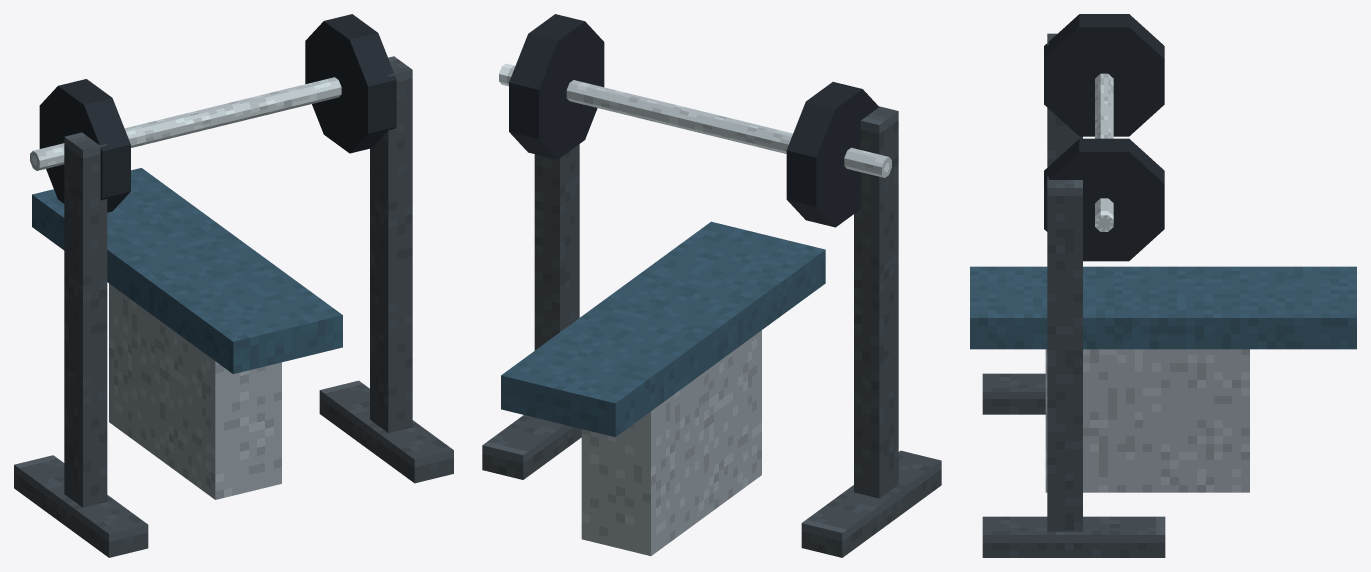
The model's file is f_exercise.glb.
3 views of the same model, side by side, from view 1: azimuth 30°, elevation 25°; view 2: azimuth 150°, elevation 25°; view 3: azimuth 270°, elevation 25° (orthographic). The views are drawn at different scales.
Visible parts, largest first — view 1: block_bench-pad, block_bench-pedestal, block_upright--0.39, block_upright-0.39, block_weight-0.39, block_weight--0.39, block_stabilizer--0.39, block_stabilizer-0.39, block_barbell; view 2: block_bench-pad, block_bench-pedestal, block_upright--0.39, block_weight-0.39, block_weight--0.39, block_upright-0.39, block_stabilizer--0.39, block_barbell, block_stabilizer-0.39; view 3: block_bench-pad, block_bench-pedestal, block_upright-0.39, block_weight--0.39, block_weight-0.39, block_stabilizer-0.39, block_stabilizer--0.39, block_barbell, block_upright--0.39.
Part boxes in pixels (box(x1,y1,x2,y2)): block_bench-pad: box(32, 168, 342, 374); block_bench-pedestal: box(109, 283, 281, 499); block_upright--0.39: box(64, 132, 107, 507); block_upright-0.39: box(370, 56, 412, 432); block_weight-0.39: box(305, 14, 396, 153); block_weight--0.39: box(39, 79, 130, 212); block_stabilizer--0.39: box(14, 455, 148, 557); block_stabilizer-0.39: box(319, 380, 453, 483); block_barbell: box(30, 77, 341, 170); block_bench-pad: box(501, 221, 825, 437); block_bench-pedestal: box(581, 330, 761, 555); block_upright--0.39: box(854, 106, 898, 498); block_weight-0.39: box(509, 14, 604, 159); block_weight--0.39: box(786, 82, 878, 227); block_upright-0.39: box(534, 144, 579, 350); block_stabilizer--0.39: box(801, 450, 941, 557); block_barbell: box(499, 63, 891, 177); block_stabilizer-0.39: box(482, 415, 581, 479); block_bench-pad: box(970, 266, 1356, 349); block_bench-pedestal: box(1045, 349, 1249, 492); block_upright-0.39: box(1047, 176, 1082, 531); block_weight--0.39: box(1044, 14, 1164, 136); block_weight-0.39: box(1044, 138, 1164, 261); block_stabilizer-0.39: box(982, 516, 1165, 557); block_stabilizer--0.39: box(982, 373, 1045, 414); block_barbell: box(1095, 73, 1113, 231); block_upright--0.39: box(1047, 33, 1082, 167).
Size of the model in its own units: 0.936 by 1 by 0.89.
Materials: 1 (1 with a texture image).
